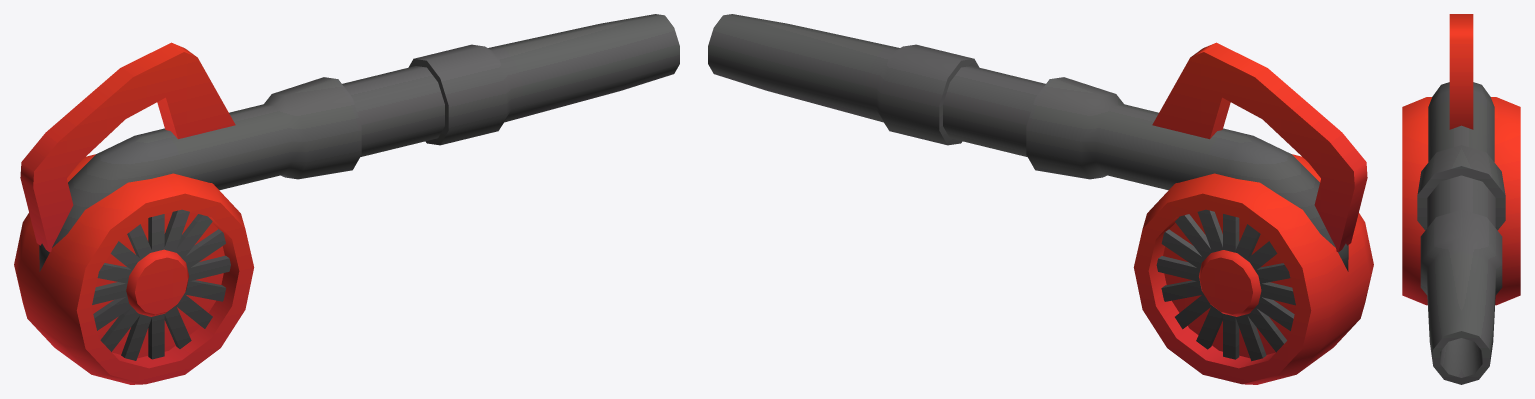
The model's file is Leafblower.obj.
3 views of the same model, side by side, from view 1: azimuth 30°, elevation 25°; view 2: azimuth 150°, elevation 25°; view 3: azimuth 270°, elevation 25° (orthographic). The views are drawn at different scales.
Parts seen in each view (by area): view 1: Handle; view 2: Handle; view 3: Handle.
Boxes of the visible parts, bbox=[...] form: Handle: bbox=[14, 14, 679, 384]; Handle: bbox=[708, 14, 1373, 384]; Handle: bbox=[1402, 14, 1520, 384].
Bounding box in the file's own units: 2 × 0.923 × 0.3405.
Materials: 1 (1 with a texture image).
